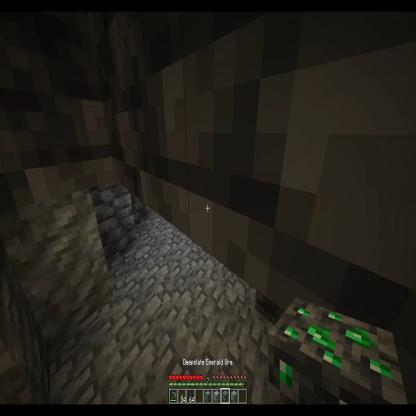emerald ore: (267, 296, 408, 416)
